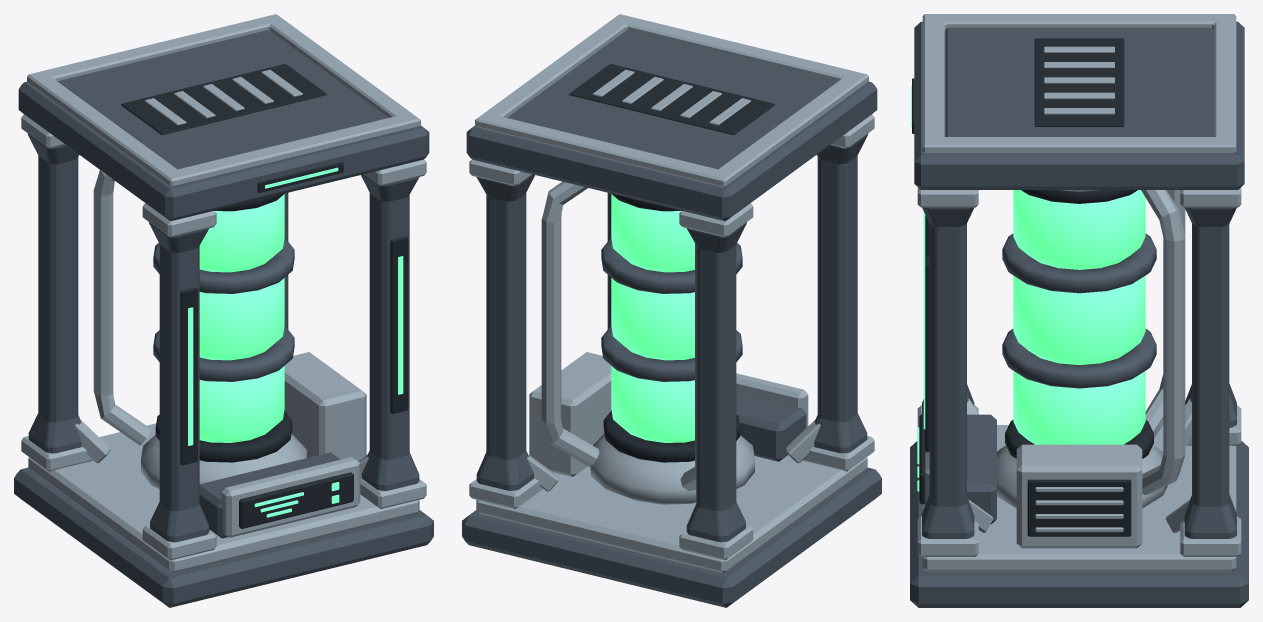
File: energy_core_generator.glb
The picture shows the model from 3 angles, left to right: view 1: azimuth 30°, elevation 25°; view 2: azimuth 150°, elevation 25°; view 3: azimuth 270°, elevation 25°; orthographic projection. The views are drawn at different scales.
Parts seen in each view (by area): view 1: EC_DarkMetal, EC_SecondaryMetal, EC_EnergyGreen, EC_PanelPlastic; view 2: EC_DarkMetal, EC_SecondaryMetal, EC_EnergyGreen, EC_PanelPlastic; view 3: EC_DarkMetal, EC_SecondaryMetal, EC_EnergyGreen, EC_PanelPlastic.
Part boxes in pixels (x1,y1,x2,y2): EC_DarkMetal: (14, 30, 433, 607); EC_SecondaryMetal: (21, 14, 426, 573); EC_EnergyGreen: (188, 167, 403, 517); EC_PanelPlastic: (121, 63, 408, 528); EC_DarkMetal: (462, 30, 881, 607); EC_SecondaryMetal: (469, 14, 874, 573); EC_EnergyGreen: (611, 194, 694, 442); EC_PanelPlastic: (569, 63, 774, 462); EC_DarkMetal: (910, 21, 1248, 607); EC_SecondaryMetal: (917, 14, 1241, 571); EC_EnergyGreen: (911, 85, 1145, 491); EC_PanelPlastic: (912, 38, 1153, 536).
Bounding box in the file's own units: 4 × 6 × 4.
